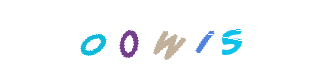0: (89, 0, 169, 80), (122, 0, 202, 80)
5: (150, 0, 230, 80)
I: (125, 0, 205, 80)
W: (124, 0, 204, 80)
